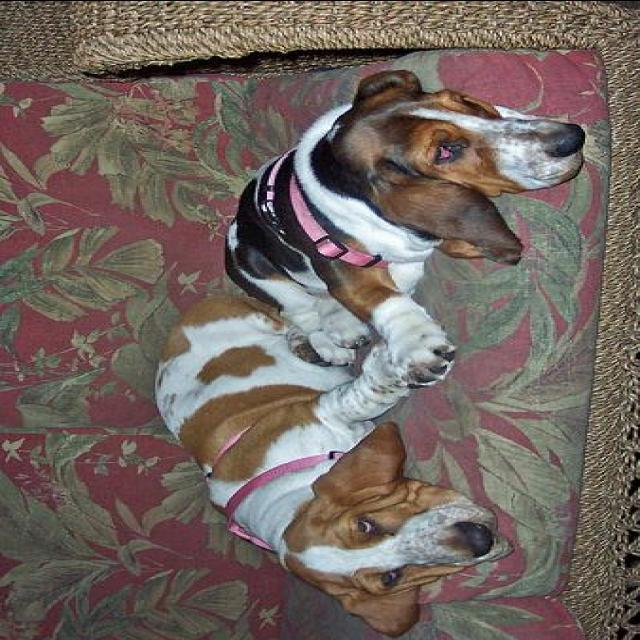basset: (158, 294, 510, 632), (222, 65, 588, 365)
